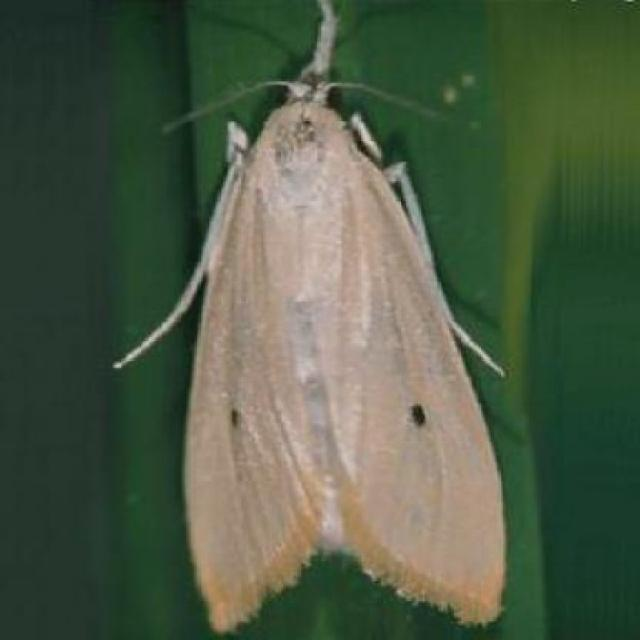stem-borer: (112, 0, 512, 640)
